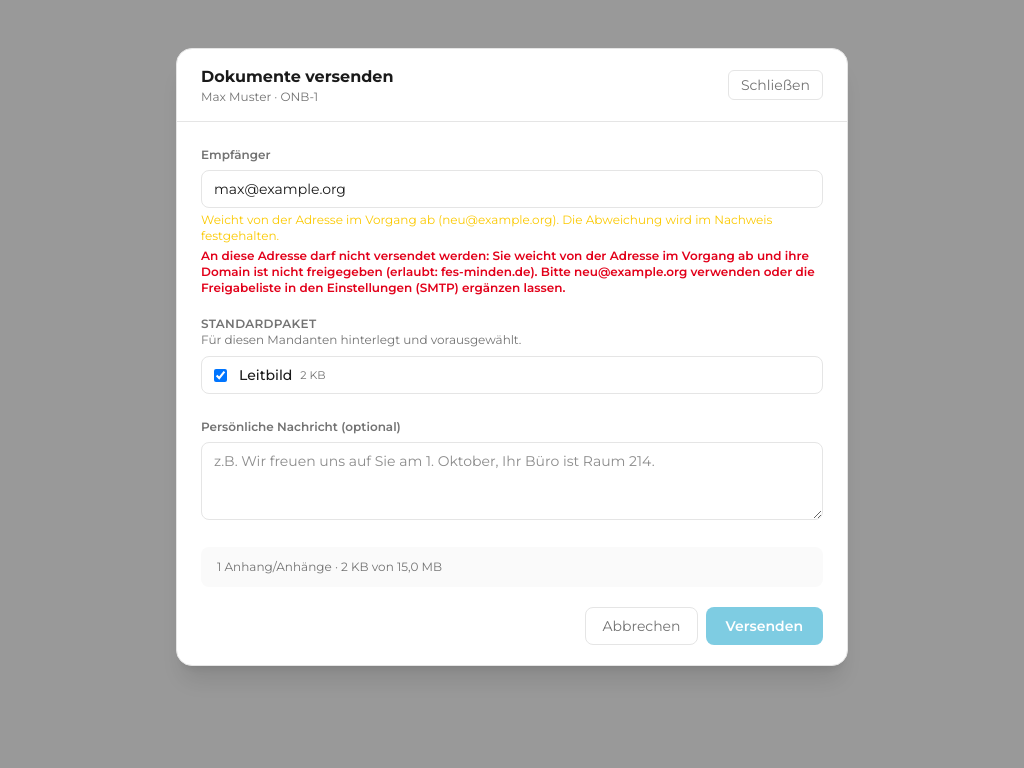
Test: Empfaengeradresse › urteilt nach der Adresse aus der Vorpruefung, nicht nach der aus dem Angebot
expect the button "Versenden" is disabled: met, box top-left (706, 607), bottom-right (823, 645)
Note: Und die frische Adresse geht durch, obwohl das Angebot sie nicht kennt.
Replace the text in the field showing "max@example.org" with "neu@example.org": x=512, y=189 top-left (201, 170), bottom-right (823, 208)
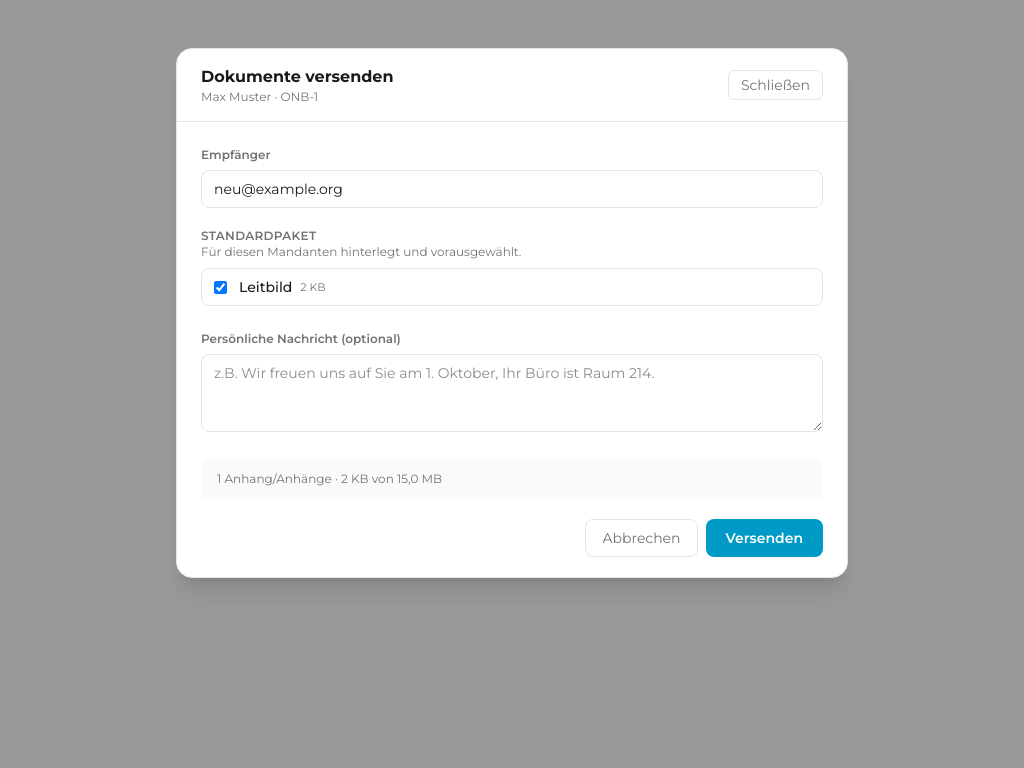
expect the button "Versenden" is enabled: met, box top-left (706, 519), bottom-right (823, 557)
expect the text "An diese Adresse darf nicht versendet werden" is gone: met
expect the text "Weicht von der Adresse im Vorgang ab" is gone: met
